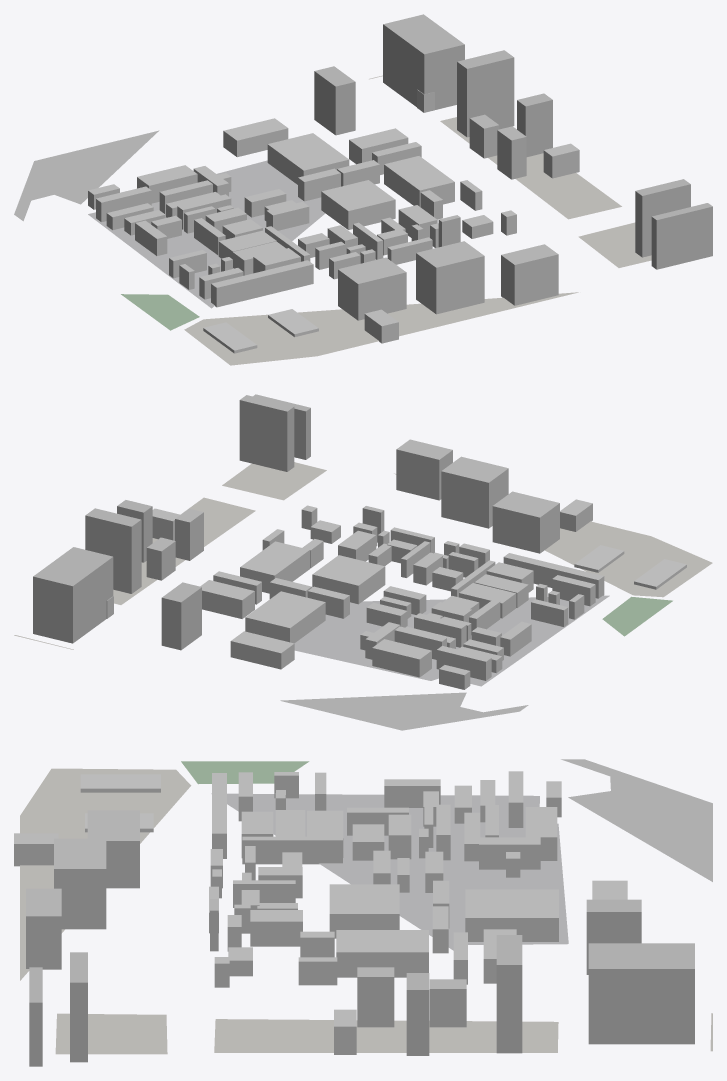
File: 133_97_mid.glb
The picture shows the model from 3 angles, top to bottom: view 1: azimuth 30°, elevation 25°; view 2: azimuth 150°, elevation 25°; view 3: azimuth 270°, elevation 25°; orthographic projection. The views are drawn at different scales.
Bounding box in the file's own units: 520 × 73.29 × 504.
